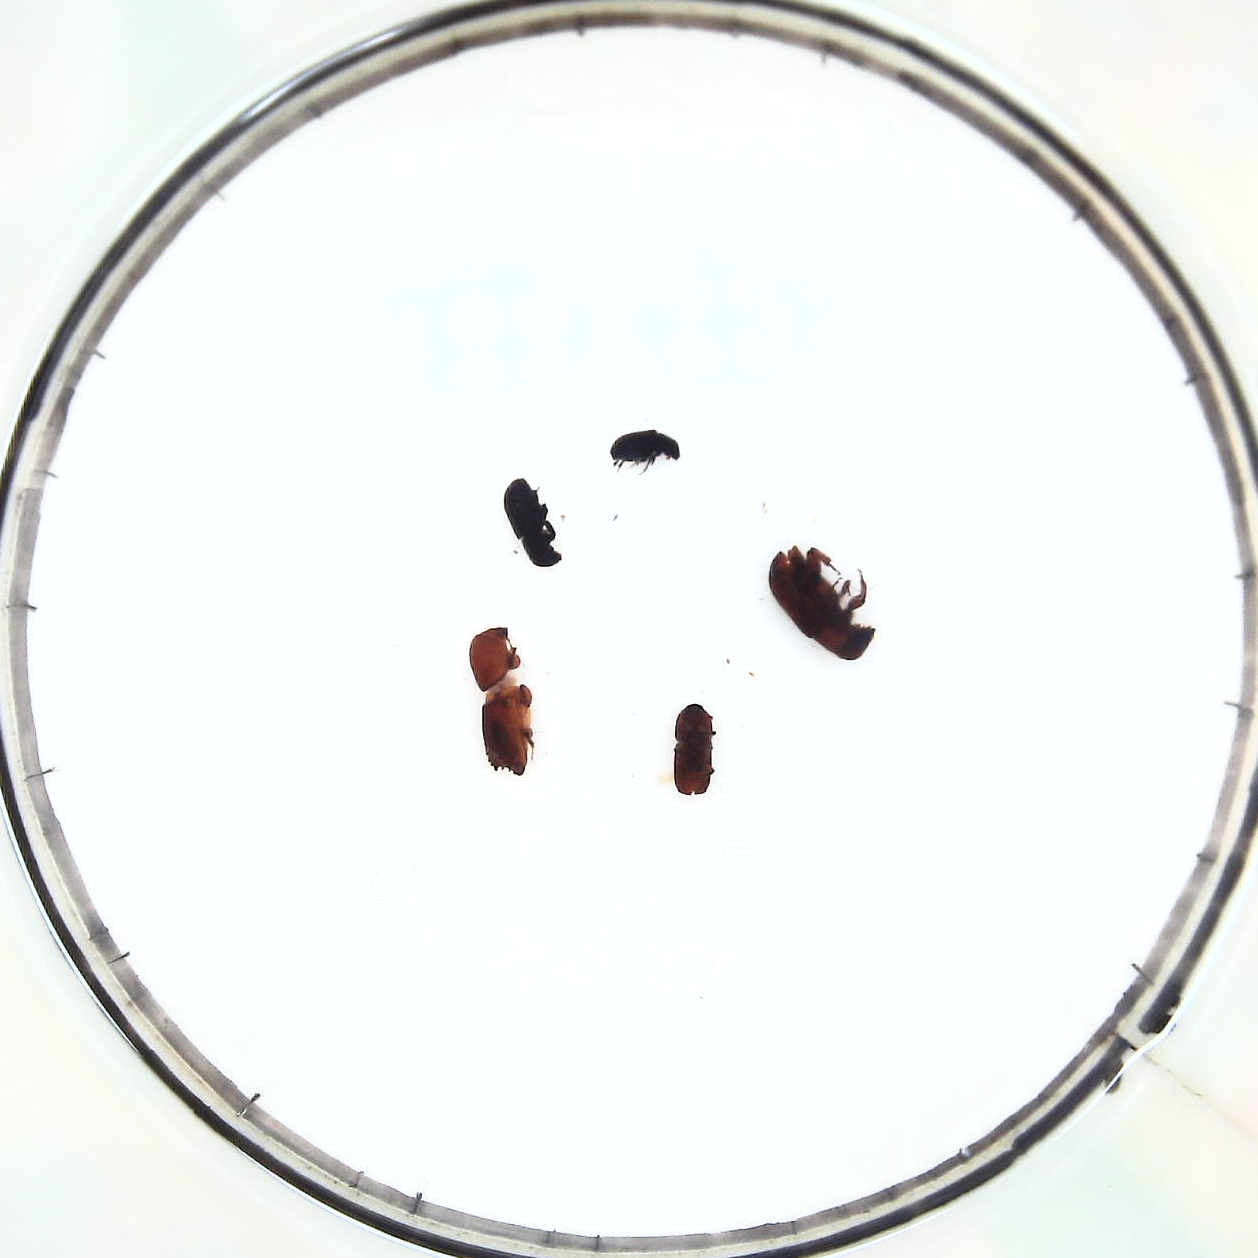Boerner: (468, 626, 538, 776)
Leconte: (763, 544, 878, 662)
Linnaeus: (670, 700, 720, 798)
armandi: (501, 476, 563, 573)
coleoptera: (607, 426, 681, 468)
